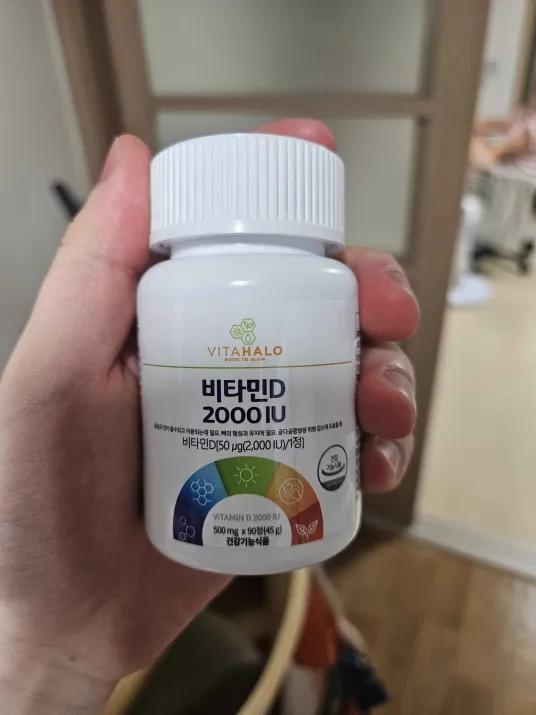supplement_label: (127, 303, 376, 558)
